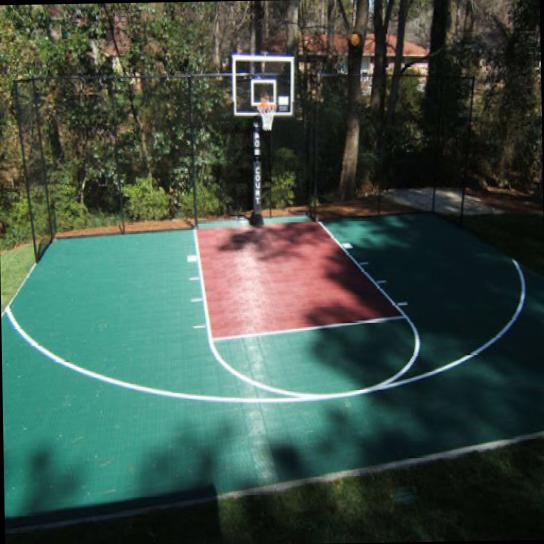basketball-hoop: (256, 102, 277, 130)
